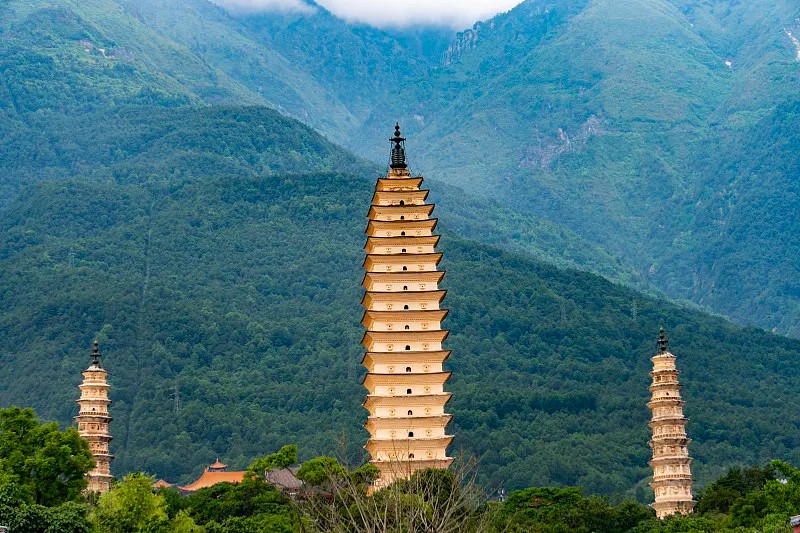ThreePagoda: (361, 122, 455, 472)
